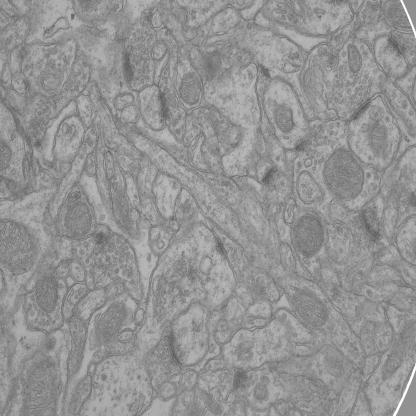mitochondria: (18, 355, 64, 416), (320, 145, 368, 203), (0, 216, 38, 275), (288, 292, 332, 332), (292, 210, 325, 256), (35, 269, 61, 317), (64, 200, 93, 238), (98, 302, 127, 339), (178, 70, 203, 104), (271, 104, 298, 135), (344, 46, 363, 76)
